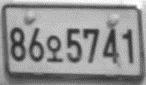1: (122, 28, 135, 63)
4: (101, 27, 120, 65)
5: (65, 27, 83, 63)
6: (28, 27, 44, 62)
7: (81, 27, 100, 64)
8: (9, 26, 26, 62)
오: (46, 34, 62, 62)
